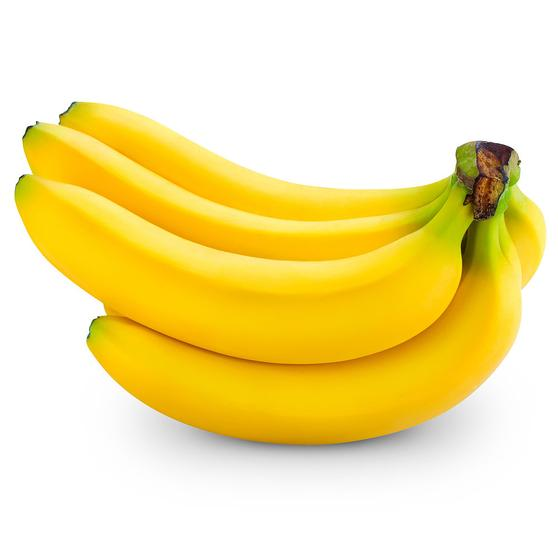banana: (8, 170, 484, 369), (57, 263, 544, 455)
